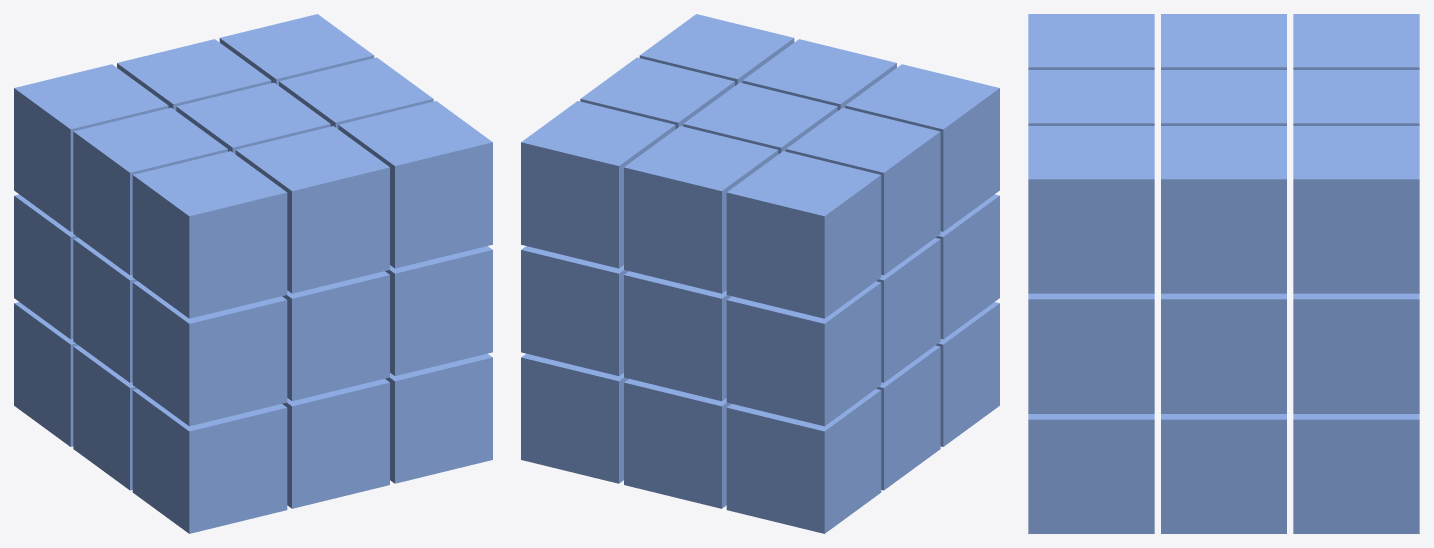
3 views of the same model, side by side, from view 1: azimuth 30°, elevation 25°; view 2: azimuth 150°, elevation 25°; view 3: azimuth 270°, elevation 25° (orthographic). The views are drawn at different scales.
Parts seen in each view (by area): view 1: Cube.025, Cube.012, Cube.007, Cube.026, Cube.027, Cube.019, Cube.024, Cube.008, Cube.009, Cube.010, Cube.011, Cube.006 (+7 smaller); view 2: Cube.019, Cube.018, Cube, Cube.020, Cube.021, Cube.025, Cube.024, Cube.003, Cube.016, Cube.002, Cube.017, Cube.006 (+7 smaller); view 3: Cube.021, Cube.027, Cube.022, Cube.010, Cube.016, Cube.015, Cube.003, Cube.009, Cube.004, Cube.019, Cube.020, Cube.025 (+3 smaller).
Boxes of the visible parts, <box> form: Cube.025: <box>132,151,287,318</box>; Cube.012: <box>132,281,287,426</box>; Cube.007: <box>132,389,287,533</box>; Cube.026: <box>235,126,389,293</box>; Cube.027: <box>338,101,492,268</box>; Cube.019: <box>14,64,168,231</box>; Cube.024: <box>73,107,227,275</box>; Cube.008: <box>282,378,389,508</box>; Cube.009: <box>385,353,492,483</box>; Cube.010: <box>385,246,492,375</box>; Cube.011: <box>282,271,389,401</box>; Cube.006: <box>73,345,137,490</box>; Cube.019: <box>726,151,881,318</box>; Cube.018: <box>726,281,881,426</box>; Cube: <box>726,389,881,533</box>; Cube.020: <box>624,126,778,293</box>; Cube.021: <box>521,101,675,268</box>; Cube.025: <box>845,64,999,231</box>; Cube.024: <box>786,107,940,275</box>; Cube.003: <box>521,353,628,483</box>; Cube.016: <box>521,246,628,375</box>; Cube.002: <box>624,378,731,508</box>; Cube.017: <box>624,271,731,401</box>; Cube.006: <box>876,345,940,490</box>; Cube.021: <box>1293,126,1419,293</box>; Cube.027: <box>1028,126,1154,293</box>; Cube.022: <box>1161,126,1286,293</box>; Cube.010: <box>1028,293,1154,413</box>; Cube.016: <box>1293,293,1419,413</box>; Cube.015: <box>1161,293,1286,413</box>; Cube.003: <box>1293,414,1419,533</box>; Cube.009: <box>1028,414,1154,533</box>; Cube.004: <box>1161,414,1286,533</box>; Cube.019: <box>1293,14,1419,69</box>; Cube.020: <box>1293,70,1419,125</box>; Cube.025: <box>1028,14,1154,69</box>.
Bounding box in the file's own units: 6.2 × 6.2 × 6.2.
